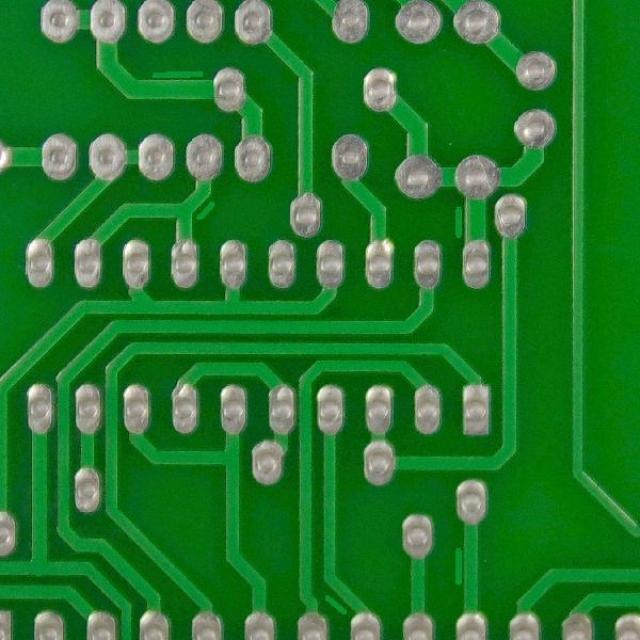Spurious_Cooper: (318, 590, 351, 620), (148, 65, 207, 81), (190, 195, 220, 224), (450, 543, 465, 589), (451, 203, 464, 242)
